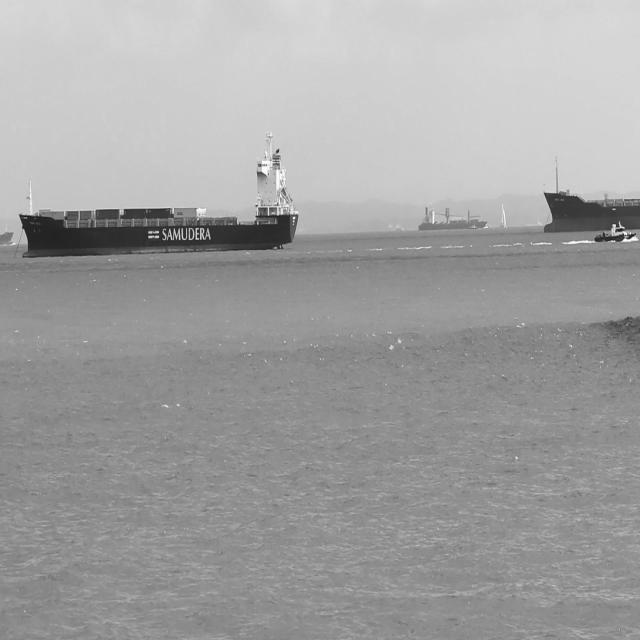boat: (499, 205, 507, 229)
ship: (19, 130, 299, 259), (543, 156, 639, 234), (417, 205, 488, 232), (591, 220, 636, 243), (0, 229, 14, 249), (468, 223, 478, 231)
